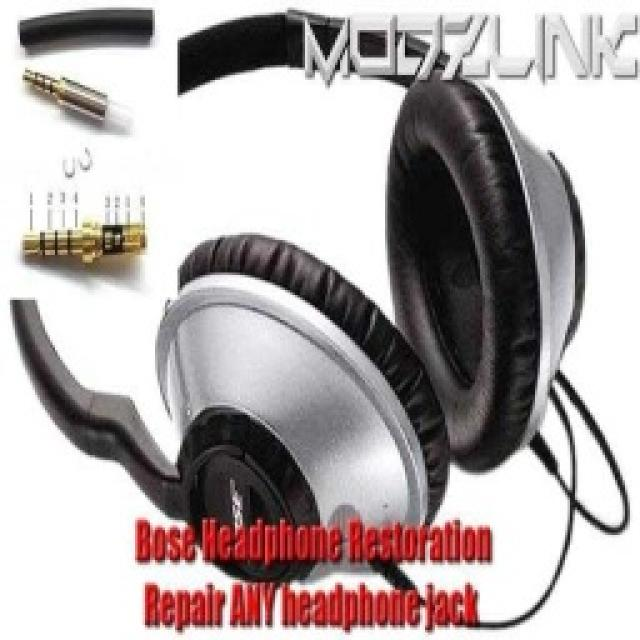headphones: (8, 5, 588, 587)
